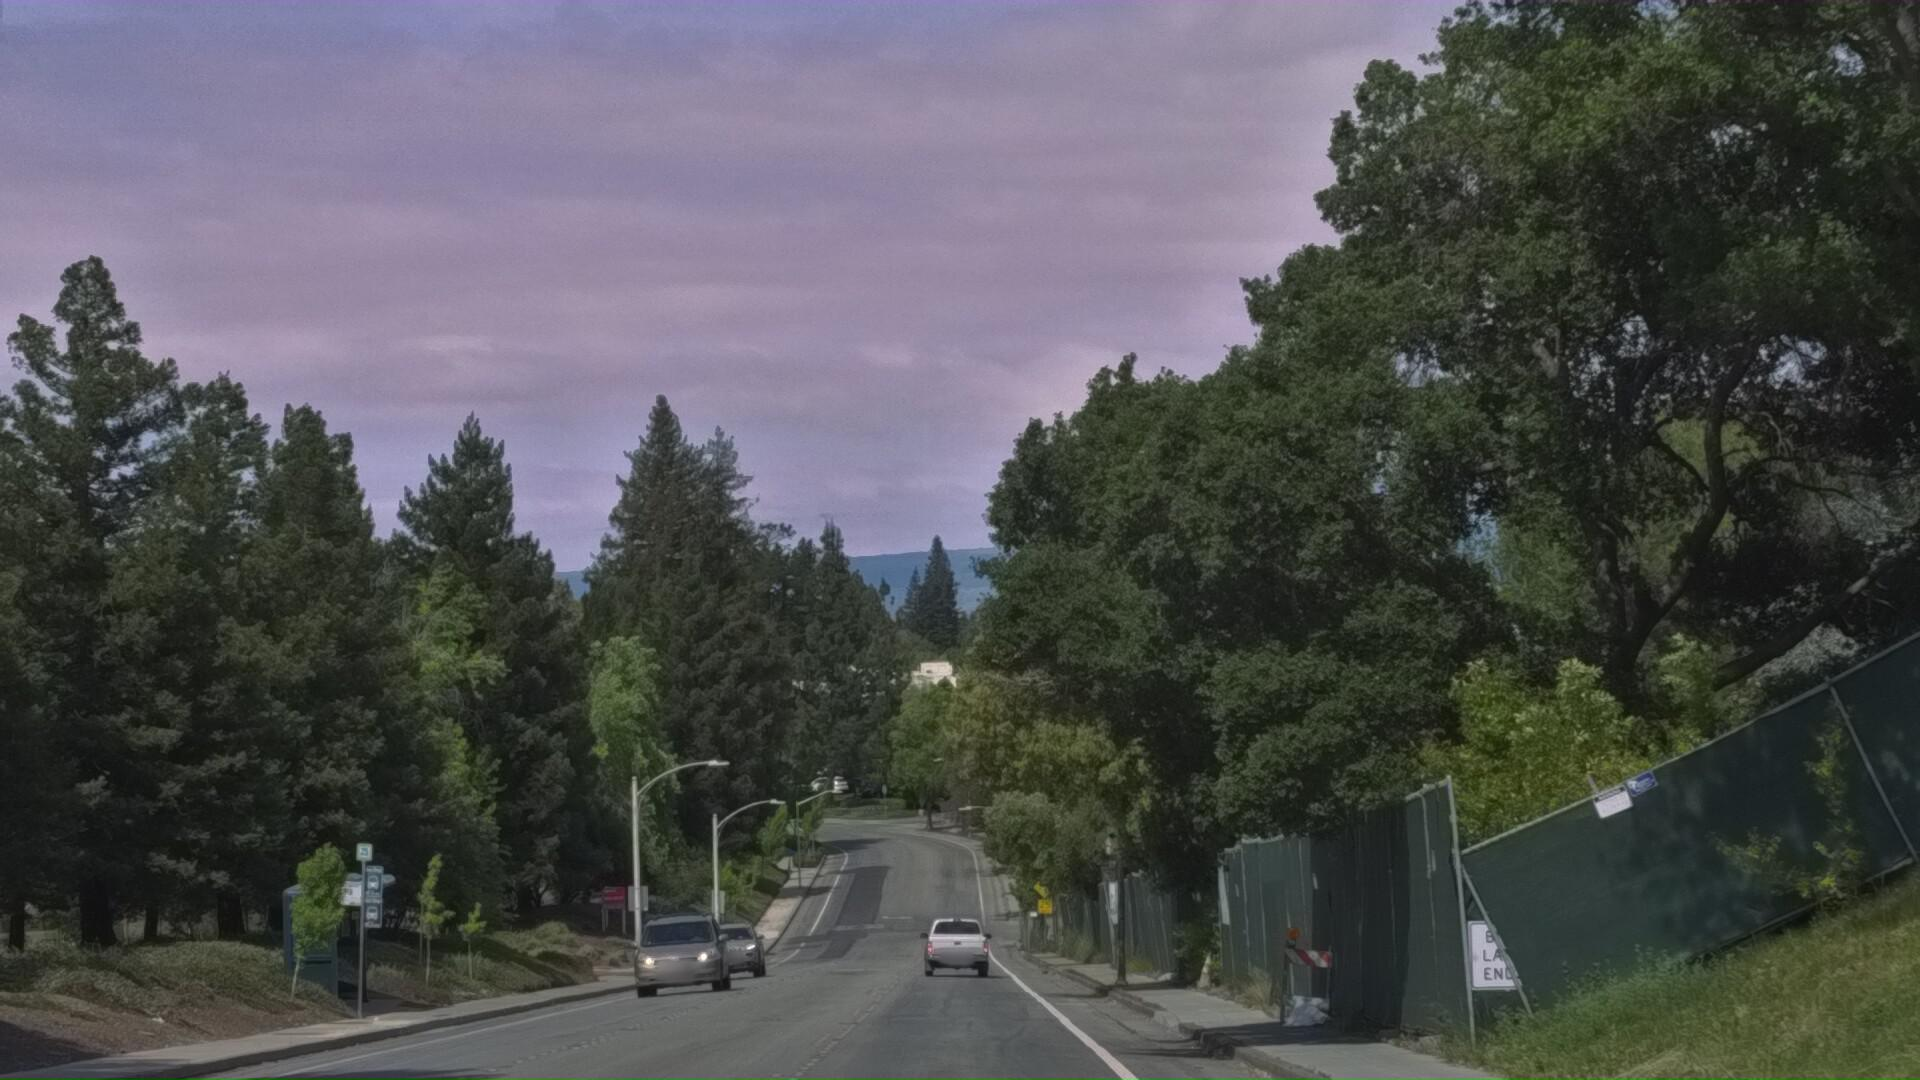car: (621, 1009, 735, 1080)
